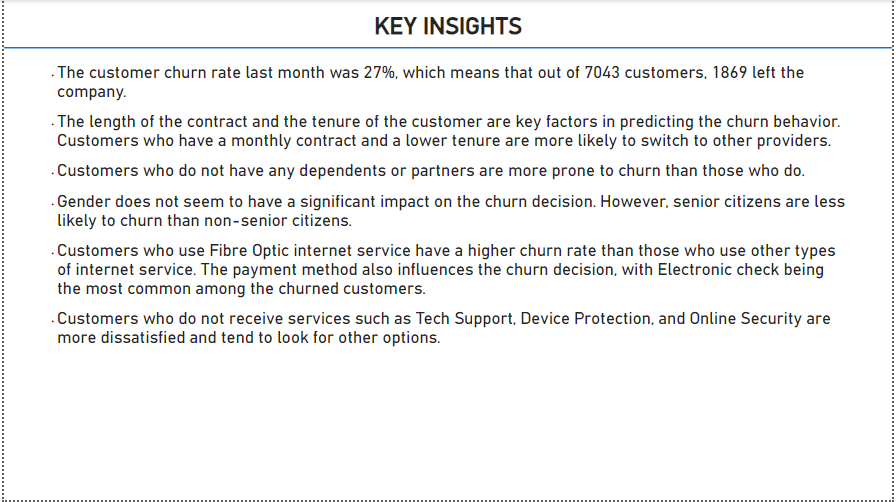

This screenshot's page, from the dashboard's own definition file:
{"tool":"powerbi","page":{"name":"Insights","canvas":[1280,720],"ordinal":1},"visuals":[{"type":"shape","box":[0,43.3,1280,51.1],"z":0},{"type":"textbox","box":[500,13.3,280,55.6],"z":1000},{"type":"textbox","box":[53.3,84.4,1164.4,635.6],"z":2000}]}

Visuals, with their boxes in screenshot pixels (x1, y1, x2, y2), scaled from the page's 1280x720 canvas onto the 896x502 screenshot:
shape: box=[0, 30, 895, 66]
textbox: box=[350, 9, 546, 48]
textbox: box=[37, 59, 852, 501]
